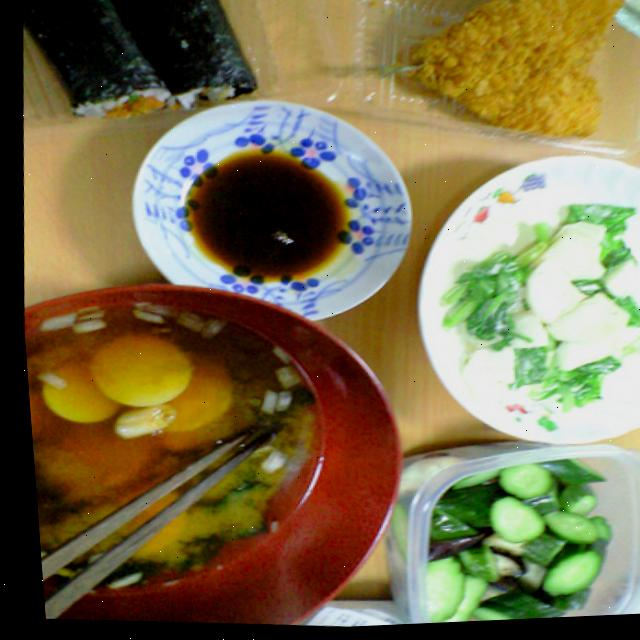炸货点心: (353, 0, 640, 154)
熟制海鲜: (353, 0, 640, 154)
